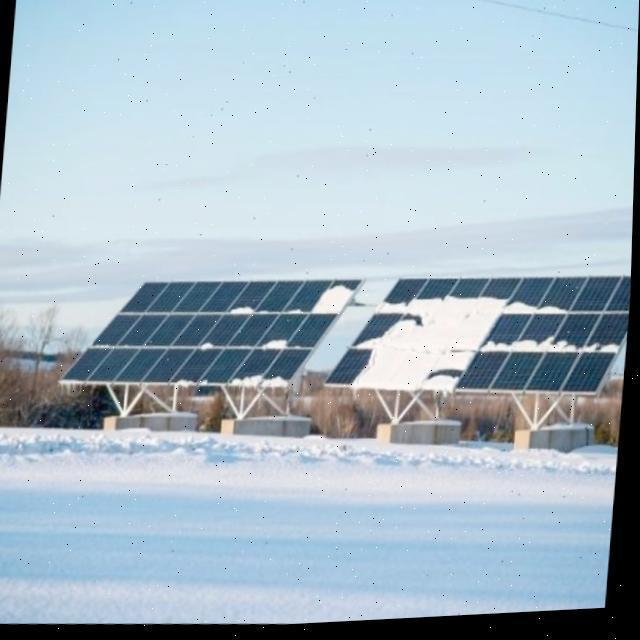Anomaly Solar Panel: (327, 277, 633, 400), (61, 276, 364, 392)
Snow: (350, 300, 509, 393), (484, 338, 580, 363), (312, 284, 355, 323), (231, 374, 289, 390), (503, 308, 570, 321), (579, 347, 619, 360), (262, 339, 291, 354), (229, 307, 255, 319), (202, 344, 215, 351)
